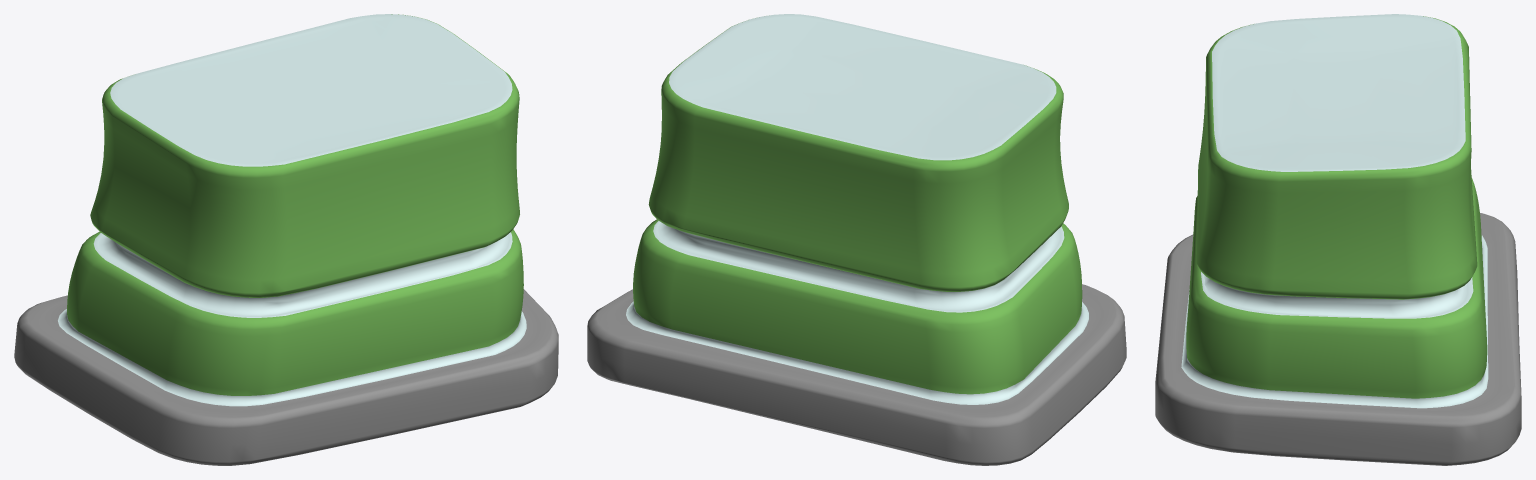
The model's file is SM_Building_03_Version_01_Part_01.fbx.
3 renders of one model, left to right at view 1: azimuth 30°, elevation 25°; view 2: azimuth 150°, elevation 25°; view 3: azimuth 270°, elevation 25°, orthographic.
Visible parts, largest first — view 1: SM_Building_03_Version_01_Part_01; view 2: SM_Building_03_Version_01_Part_01; view 3: SM_Building_03_Version_01_Part_01.
Boxes of the visible parts, x1=… form: SM_Building_03_Version_01_Part_01: x1=14, y1=14, x2=558, y2=465; SM_Building_03_Version_01_Part_01: x1=587, y1=14, x2=1126, y2=465; SM_Building_03_Version_01_Part_01: x1=1155, y1=14, x2=1521, y2=465.
Bounding box in the file's own units: 6010 × 3635 × 4387.
